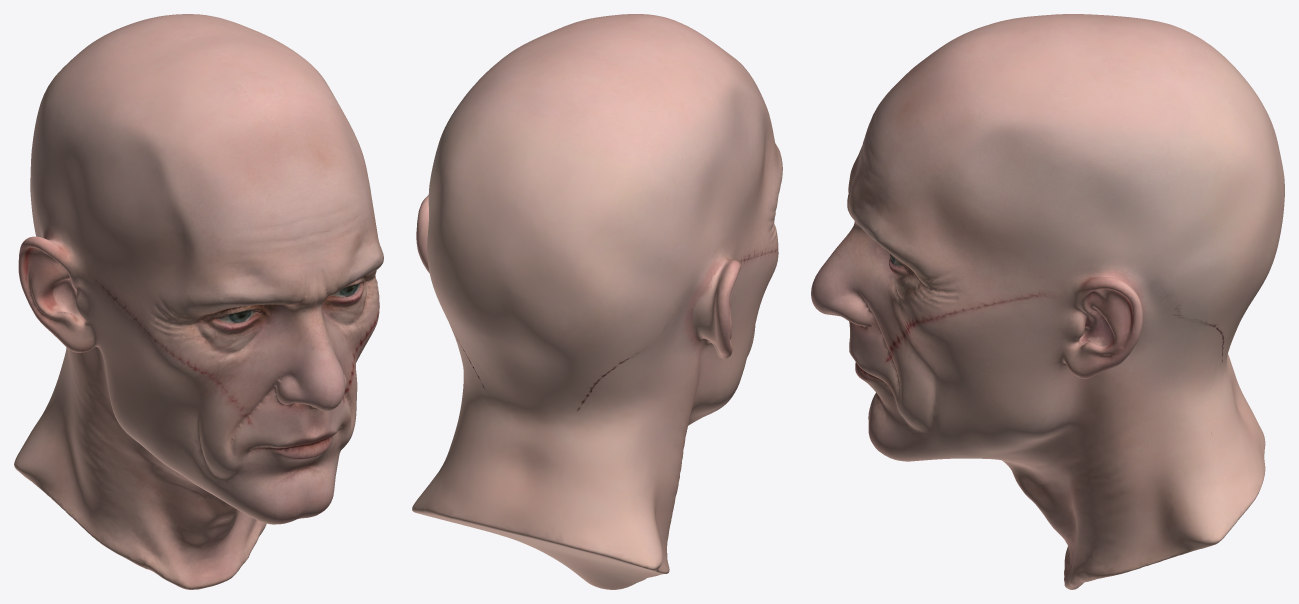
File: head_50k.glb
3 views of the same model, side by side, from view 1: azimuth 30°, elevation 25°; view 2: azimuth 150°, elevation 25°; view 3: azimuth 270°, elevation 25° (orthographic).
Parts seen in each view (by area): view 1: Mesh_0; view 2: Mesh_0; view 3: Mesh_0.
Boxes of the visible parts, <box> form: Mesh_0: <box>14,14,383,589</box>; Mesh_0: <box>412,14,782,589</box>; Mesh_0: <box>811,14,1284,589</box>.
Bounding box in the file's own units: 1.15 × 1.91 × 1.48.
Materials: 1 (1 with a texture image).
